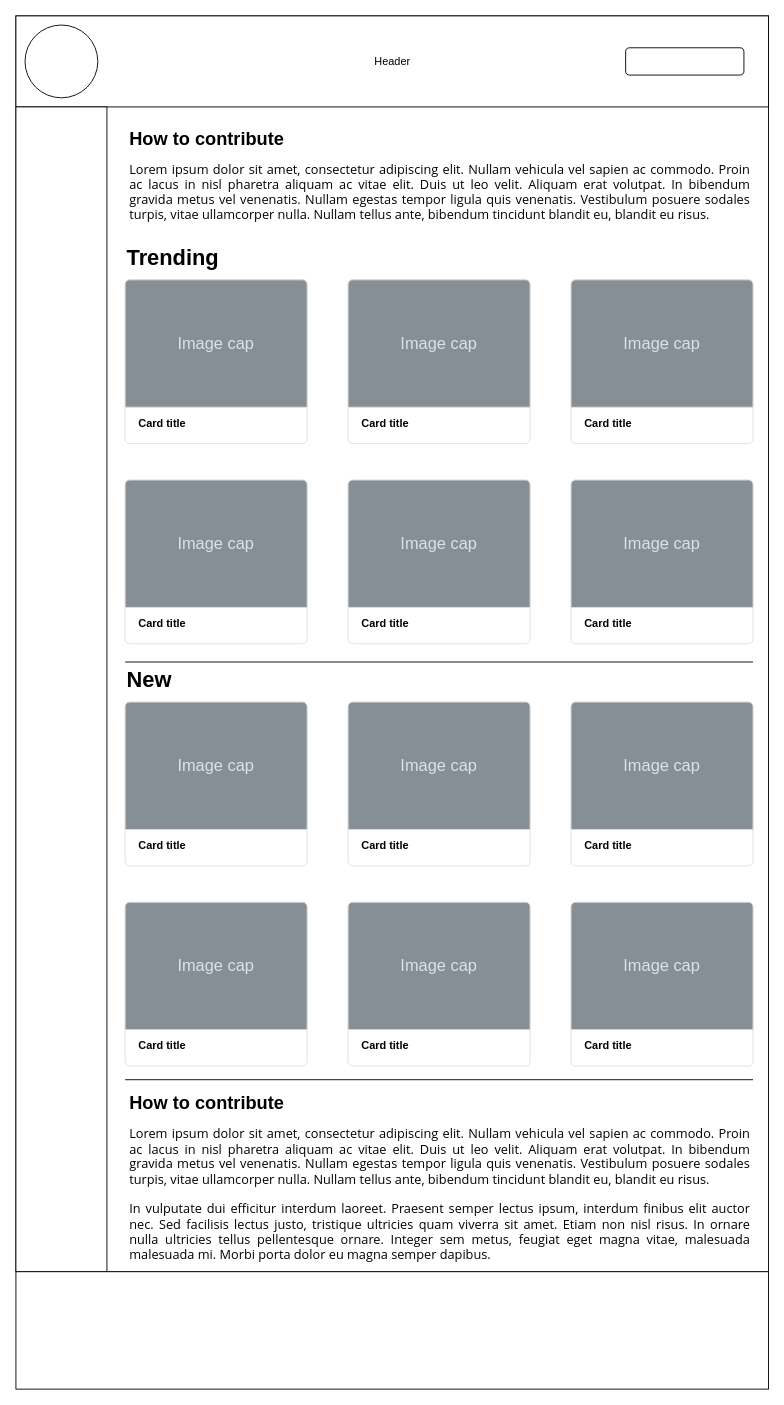
Image size: 784x1405. Some labels were removed from this diagram. The centre of each missing label's shape, as x and y in pixels:
"Logo" goes at pixel 61 61.
"Search" goes at pixel 684 61.
"Side Bar" goes at pixel 61 689.
